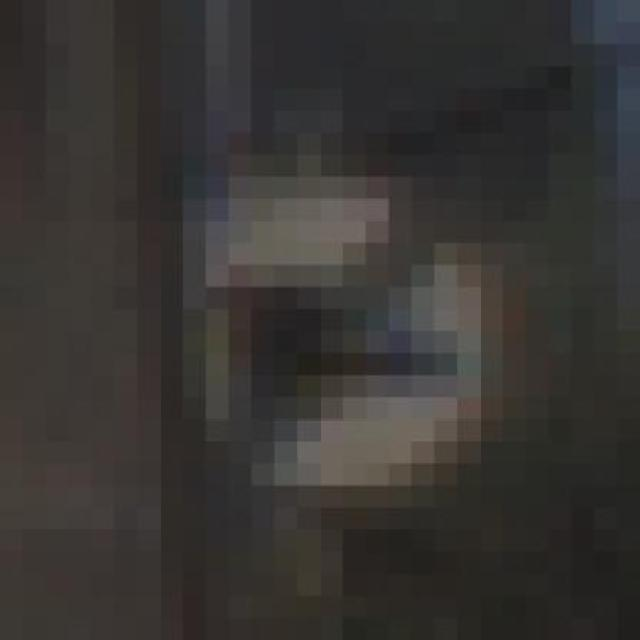Overtaking by trucks is prohibited: (114, 110, 549, 530)
